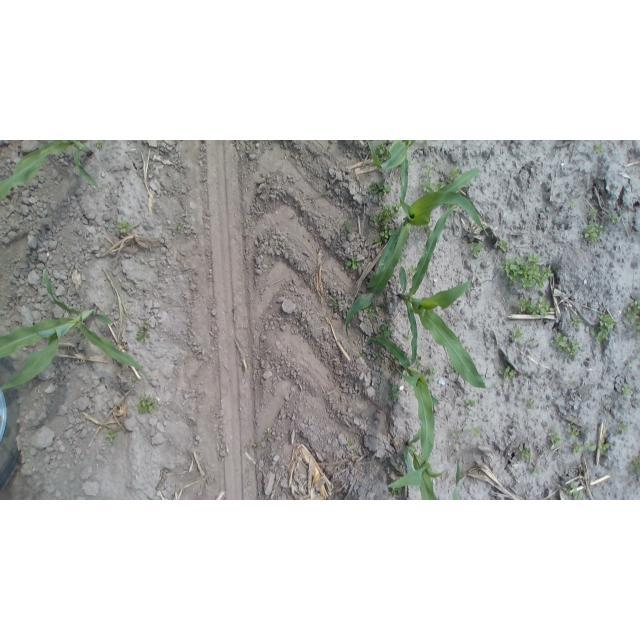Maize: (359, 152, 491, 302), (1, 261, 148, 391), (391, 201, 487, 391), (368, 334, 441, 482), (0, 141, 104, 204), (386, 423, 451, 498), (374, 141, 414, 173)
Weeds: (499, 252, 553, 292), (372, 201, 400, 243), (591, 312, 617, 347), (551, 330, 582, 359), (517, 296, 553, 316), (622, 298, 639, 334), (137, 394, 160, 415), (583, 222, 605, 243), (366, 181, 392, 196), (563, 485, 586, 500), (344, 254, 362, 272), (137, 322, 151, 345), (378, 320, 394, 340), (499, 364, 519, 380), (420, 180, 444, 193), (569, 443, 597, 454), (386, 383, 401, 403), (546, 429, 562, 447), (117, 220, 133, 236), (423, 366, 437, 384), (470, 242, 485, 258), (519, 444, 533, 461), (608, 209, 622, 225), (375, 141, 389, 157), (497, 237, 511, 253), (628, 456, 638, 478), (363, 305, 377, 320), (510, 328, 524, 343), (568, 423, 581, 439), (570, 315, 583, 331), (104, 430, 118, 443), (524, 397, 537, 411), (463, 396, 478, 408), (424, 164, 439, 176), (620, 382, 632, 396), (600, 439, 611, 454), (448, 168, 460, 181), (587, 207, 599, 220), (347, 437, 358, 451), (389, 486, 404, 496), (329, 296, 340, 309), (593, 143, 606, 154), (618, 422, 629, 435), (471, 427, 484, 438), (408, 265, 419, 277), (344, 220, 353, 234), (531, 465, 542, 476), (173, 223, 183, 234), (568, 201, 579, 211), (94, 141, 106, 150), (626, 359, 635, 371), (570, 380, 579, 391), (240, 360, 248, 372), (264, 427, 273, 437), (527, 337, 537, 346), (402, 332, 412, 341), (453, 428, 464, 436), (376, 307, 385, 316), (166, 190, 174, 198)
